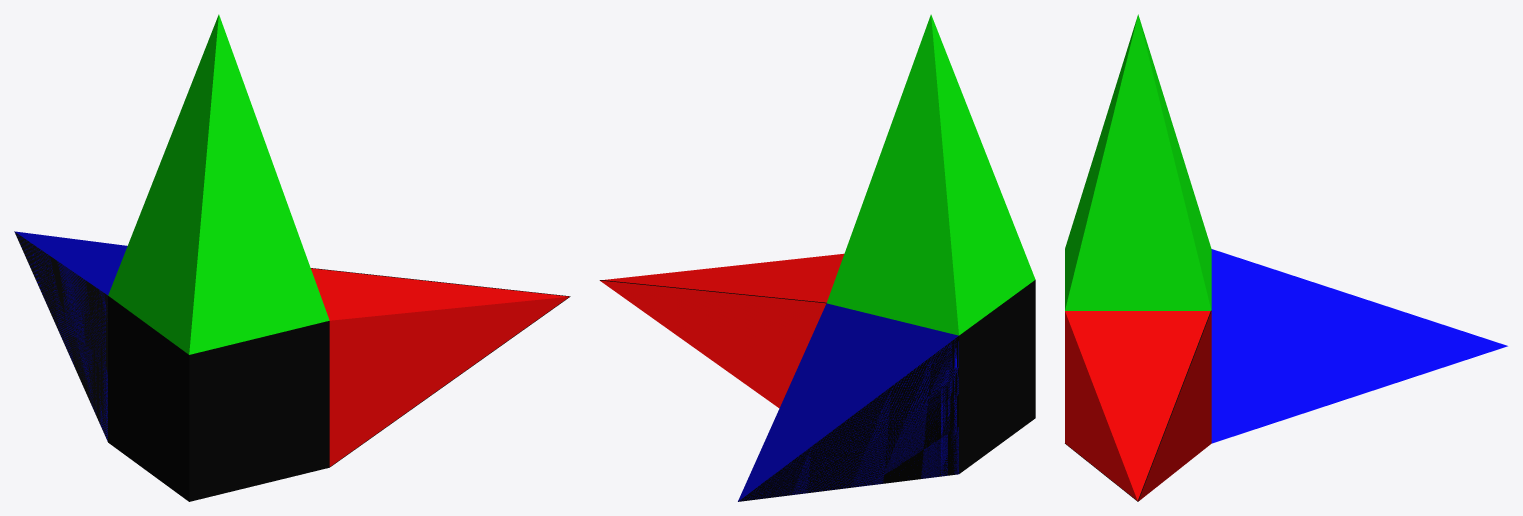
Rendered from xyzLeftHand.glb.
3 views of the same model, side by side, from view 1: azimuth 30°, elevation 25°; view 2: azimuth 150°, elevation 25°; view 3: azimuth 270°, elevation 25° (orthographic). The views are drawn at different scales.
Visible parts, largest first — view 1: Cube; view 2: Cube; view 3: Cube.
Part boxes in pixels (x1=…): Cube: x1=14, y1=14, x2=570, y2=501; Cube: x1=599, y1=14, x2=1035, y2=501; Cube: x1=1065, y1=14, x2=1507, y2=501.
Size of the model in its own units: 6.01 by 6 by 6.06.
